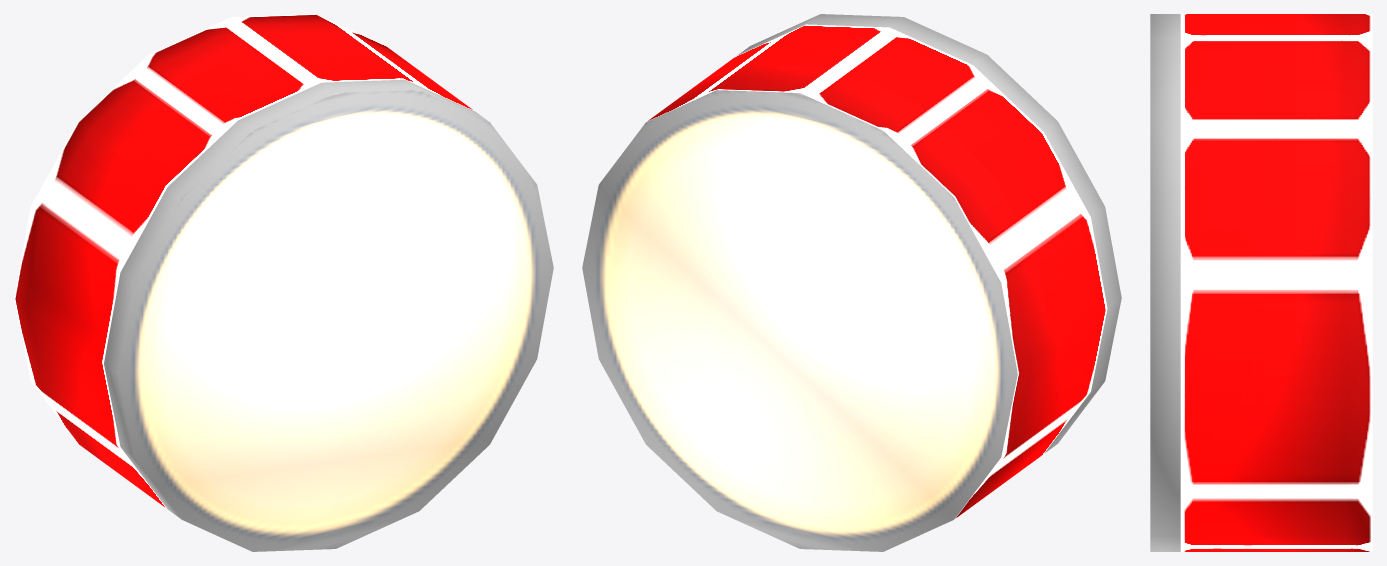
File: white_drum.glb
3 views of the same model, side by side, from view 1: azimuth 30°, elevation 25°; view 2: azimuth 150°, elevation 25°; view 3: azimuth 270°, elevation 25° (orthographic). The views are drawn at different scales.
Parts seen in each view (by area): view 1: White_Drum; view 2: White_Drum; view 3: White_Drum.
Boxes of the visible parts, bbox=[...] form: White_Drum: bbox=[14, 14, 553, 551]; White_Drum: bbox=[582, 14, 1121, 551]; White_Drum: bbox=[1150, 14, 1372, 551].
Size of the model in its own units: 0.4392 by 0.4392 by 0.1815.
Materials: 1 (1 with a texture image).
